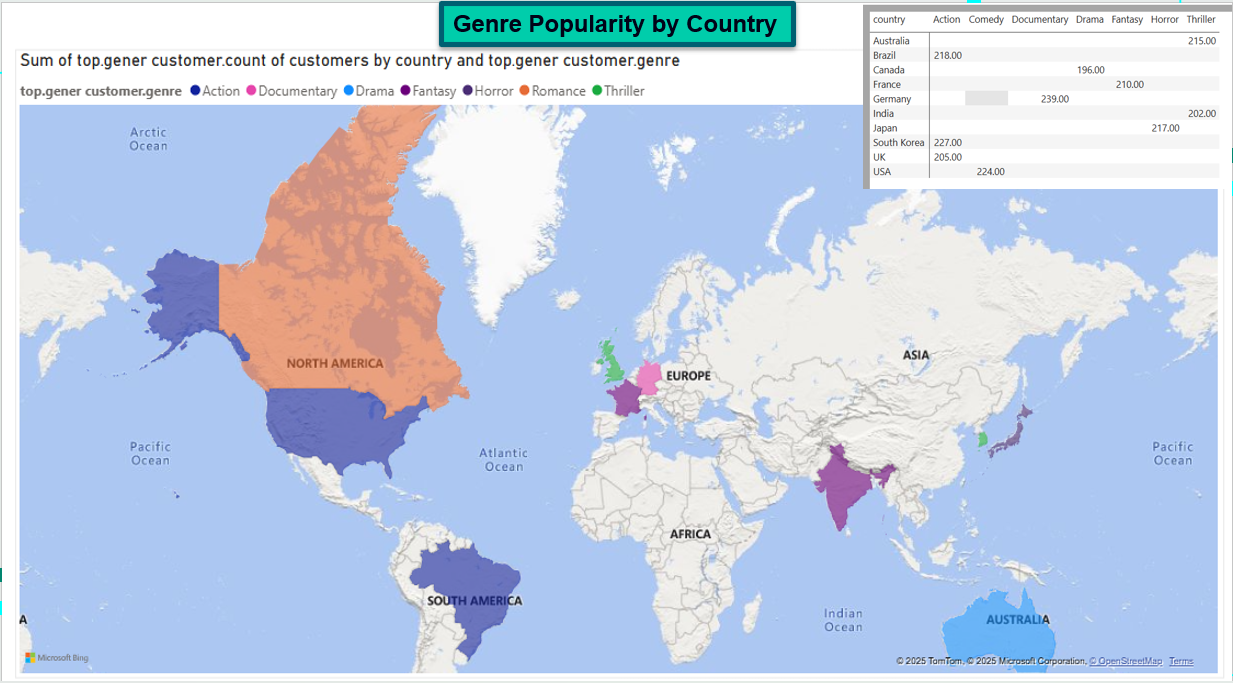

Layout of this report page (visuals, bound fields, positions):
{"tool":"powerbi","page":{"name":"Genre Popularity by Country","canvas":[1280,720],"ordinal":4},"visuals":[{"type":"filledMap","fields":{"Category":["netflix_dataset_20000 csv (2).country"],"Series":["netflix_dataset_20000 csv (2).top.gener customer.genre"]},"box":[35.8,89.5,1210.1,630.5],"z":0},{"type":"textbox","box":[356.6,23.4,567.2,53.7],"z":1000}]}

Visuals, with their boxes in screenshot pixels (x1, y1, x2, y2), scaled from the page's 1280x720 canvas onto the 1233x683 screenshot:
filledMap - netflix_dataset_20000 csv (2).country x netflix_dataset_20000 csv (2).top.gener customer.genre: left=34, top=85, right=1200, bottom=682
textbox: left=344, top=22, right=890, bottom=73
